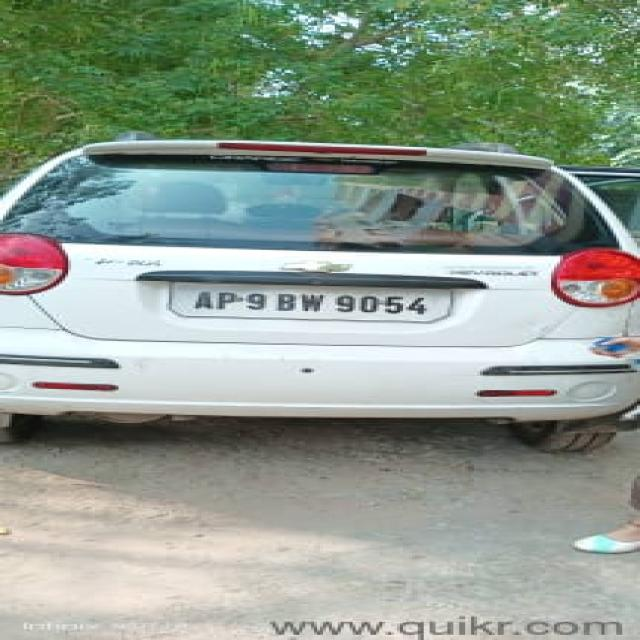number_plate: (166, 267, 468, 334)
